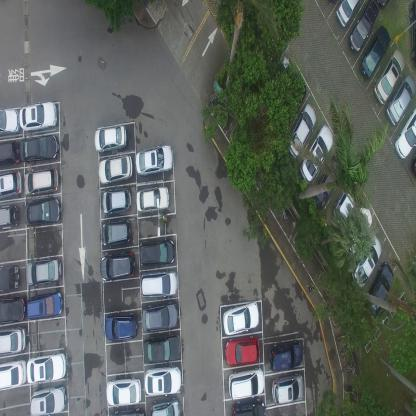car: (300, 124, 334, 184), (364, 260, 394, 320), (359, 23, 390, 81), (374, 49, 406, 104), (340, 206, 372, 260), (312, 154, 344, 208), (352, 232, 382, 289), (286, 102, 315, 160), (349, 0, 379, 56), (386, 74, 415, 127), (332, 176, 360, 230), (19, 99, 58, 133), (228, 364, 264, 400), (136, 144, 174, 177), (142, 333, 181, 365), (27, 351, 67, 382), (20, 134, 61, 164), (223, 300, 259, 334), (23, 196, 62, 227), (142, 296, 177, 330), (99, 153, 134, 187), (28, 288, 64, 321), (30, 383, 66, 415), (395, 105, 415, 161), (142, 266, 178, 297), (100, 249, 136, 280), (144, 365, 181, 395), (25, 256, 62, 286), (268, 338, 302, 370), (140, 235, 176, 265), (106, 378, 142, 408), (104, 311, 138, 342), (224, 337, 260, 366), (272, 373, 304, 405), (101, 214, 130, 249), (94, 123, 127, 153), (136, 185, 170, 214), (24, 168, 60, 195), (103, 184, 132, 216), (0, 294, 28, 325), (0, 358, 27, 390), (0, 325, 26, 358), (0, 170, 24, 201), (336, 0, 360, 29), (0, 262, 21, 294), (0, 137, 20, 167), (149, 397, 180, 415), (0, 107, 19, 136), (231, 400, 266, 415), (0, 203, 18, 230)
